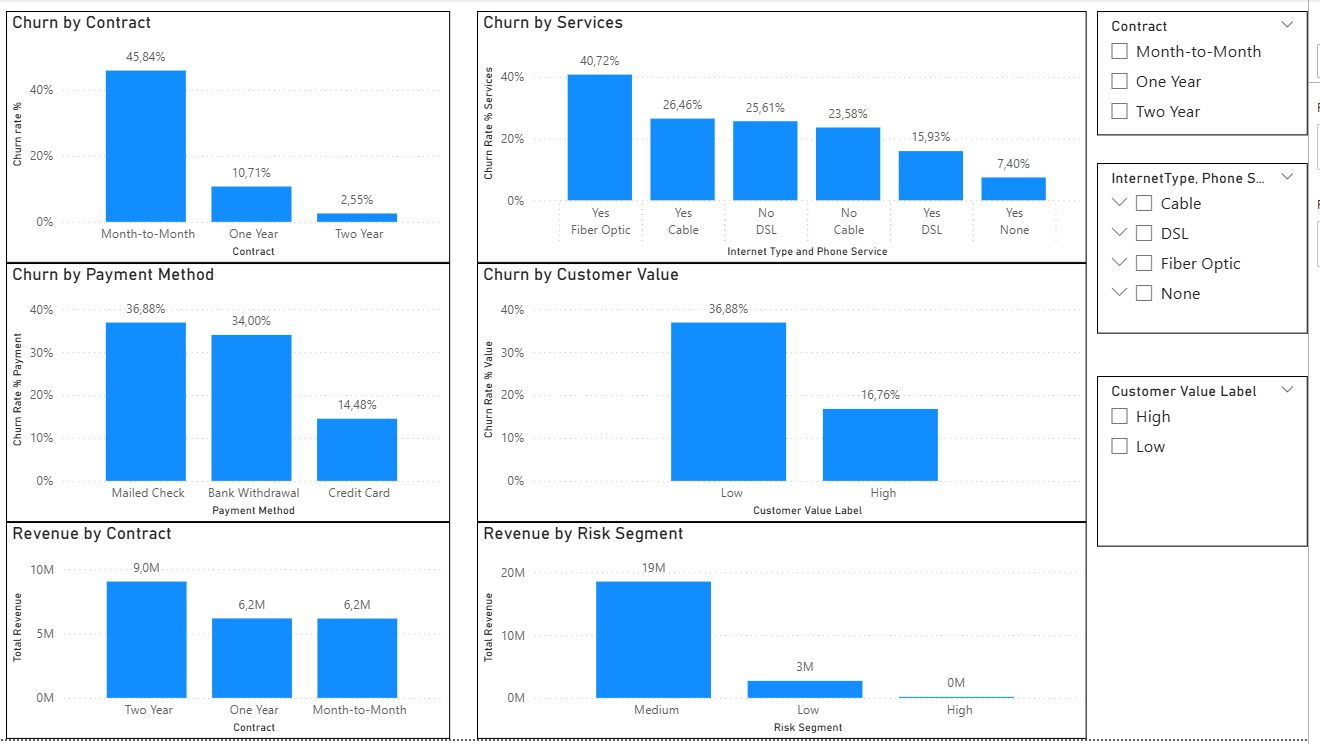

Layout of this report page (visuals, bound fields, positions):
{"tool":"powerbi","page":{"name":"Contract & Services / Product Analysis.","canvas":[1280,720],"ordinal":1},"visuals":[{"type":"clusteredColumnChart","title":"Churn by Contract","fields":{"Category":["02_Contract.Contract"],"Y":["02_Contract.Churn rate per contract %"]},"box":[13.6,11.7,431.9,245.1],"z":0},{"type":"clusteredColumnChart","title":"Churn by Services","fields":{"Category":["03_Services.InternetType","03_Services.Phone Service Label"],"Y":["03_Services.Churn Rate % Services"]},"box":[471.7,11.7,593.3,245.1],"z":1000},{"type":"clusteredColumnChart","title":"Churn by Payment Method","fields":{"Category":["07_Payment.PaymentMethod"],"Y":["07_Payment.Churn Rate % Payment"]},"box":[13.6,256.8,431.9,251.9],"z":2000},{"type":"clusteredColumnChart","title":"Churn by Customer Value","fields":{"Category":["08_Value.Customer Value Label"],"Y":["08_Value.Churn Rate % Value"]},"box":[471.7,256.8,593.3,251.9],"z":3000},{"type":"slicer","fields":{"Values":["02_Contract.Contract"]},"box":[1074.8,11.7,205.2,120.6],"z":4000},{"type":"slicer","fields":{"Values":["03_Services.InternetType","03_Services.Phone Service Label"]},"box":[1074.8,159.5,205.2,166.3],"z":5000},{"type":"slicer","fields":{"Values":["08_Value.Customer Value Label"]},"box":[1074.8,366.7,205.2,166.3],"z":6000},{"type":"clusteredColumnChart","title":"Revenue by Contract","fields":{"Category":["telco_features.Contract"],"Y":["Sum(telco_features.TotalRevenue)"]},"box":[13.6,508.7,431.9,211.1],"z":6001},{"type":"clusteredColumnChart","title":"Revenue by Risk Segment","fields":{"Category":["telco_features.RiskSegment"],"Y":["Sum(telco_features.TotalRevenue)"]},"box":[471.7,508.7,593.3,211.1],"z":6002}]}

Visuals, with their boxes in screenshot pixels (x1, y1, x2, y2), scaled from the page's 1280x720 canvas onto the 1320x744 screenshot:
"Churn by Contract" clusteredColumnChart: <bbox>14, 12, 459, 265</bbox>
"Churn by Services" clusteredColumnChart: <bbox>486, 12, 1098, 265</bbox>
"Churn by Payment Method" clusteredColumnChart: <bbox>14, 265, 459, 526</bbox>
"Churn by Customer Value" clusteredColumnChart: <bbox>486, 265, 1098, 526</bbox>
slicer - 02_Contract.Contract: <bbox>1108, 12, 1319, 137</bbox>
slicer - 03_Services.InternetType x 03_Services.Phone Service Label: <bbox>1108, 165, 1319, 337</bbox>
slicer - 08_Value.Customer Value Label: <bbox>1108, 379, 1319, 551</bbox>
"Revenue by Contract" clusteredColumnChart: <bbox>14, 526, 459, 743</bbox>
"Revenue by Risk Segment" clusteredColumnChart: <bbox>486, 526, 1098, 743</bbox>
